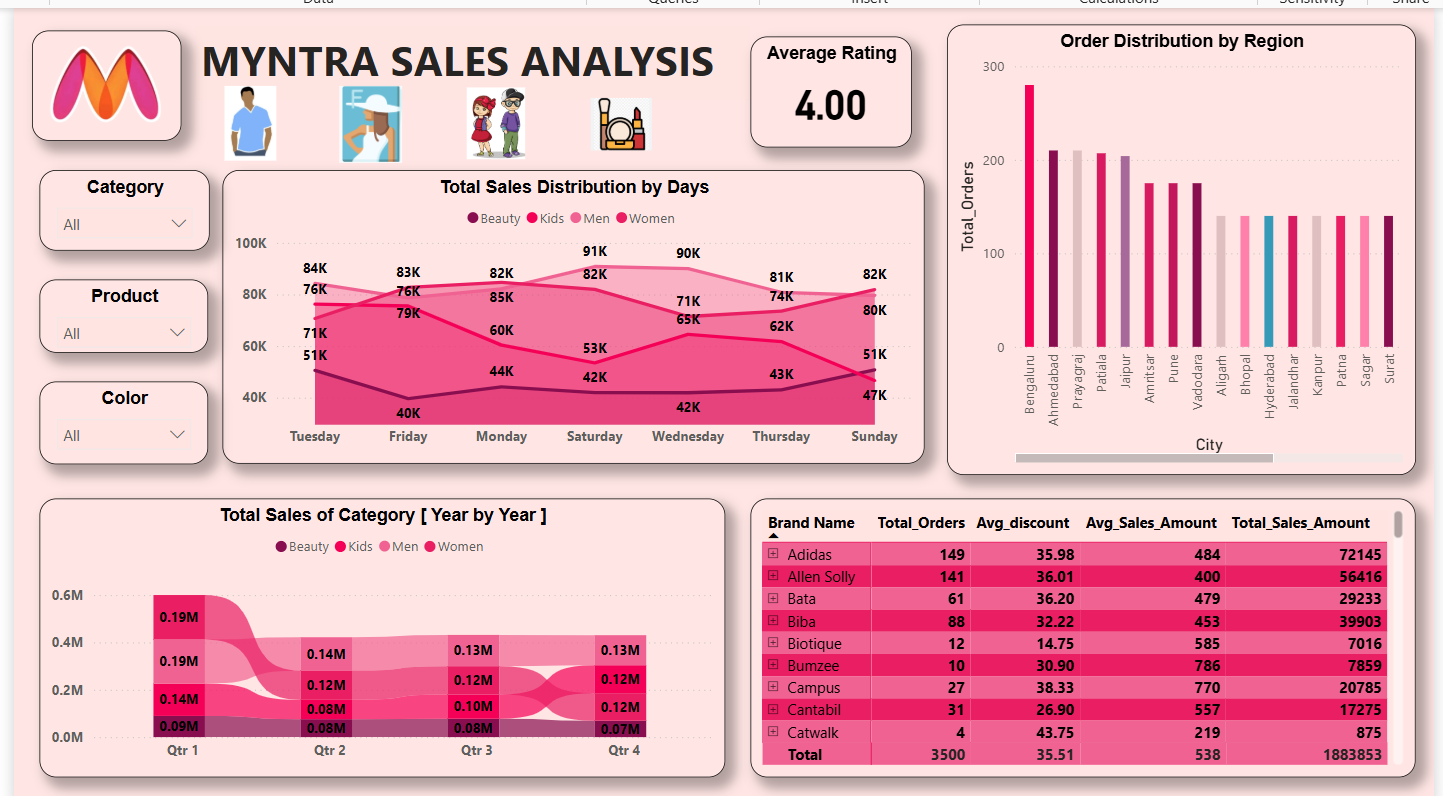

What the dashboard file says about the page in this screenshot:
{"tool":"powerbi","page":{"name":"Key Metrics","canvas":[1280,720],"ordinal":3},"visuals":[{"type":"areaChart","title":"Total Sales Distribution by Days ","fields":{"Category":["DateTable.Day of Week"],"Y":["'Measures'.Total_Sales_Amount"],"Series":["dim_products.Category"]},"box":[187.8,145.4,632.9,265],"z":0},{"type":"ribbonChart","title":"Total Sales of Category [ Year by Year ]","fields":{"Category":["DateTable.Date.Variation.Date Hierarchy.Year","DateTable.Date.Variation.Date Hierarchy.Quarter","DateTable.Date.Variation.Date Hierarchy.Month","DateTable.Date.Variation.Date Hierarchy.Day"],"Y":["Sum(fact_orders.Sales Amount )"],"Series":["dim_products.Category"]},"box":[22.7,442.1,617.8,251.4],"z":1000},{"type":"pivotTable","fields":{"Rows":["dim_products.Brand Name","dim_products.Product Name"],"Values":["'Measures'.Total_Orders","'Measures'.Avg_discount","'Measures'.Avg_Sales_Amount","'Measures'.Total_Sales_Amount"]},"box":[663.2,442.1,599.6,251.4],"z":2000},{"type":"ribbonChart","title":"Order Distribution by Region","fields":{"Category":["dim_customers.City"],"Series":["dim_customers.State"],"Y":["'Measures'.Total_Orders"]},"box":[840.4,15.1,422.5,405.8],"z":3000},{"type":"textbox","box":[163.5,15.9,500,66.7],"z":4000},{"type":"image","box":[174.6,65.5,77.9,77.9],"z":5000},{"type":"image","box":[277,64.7,88,79.4],"z":6000},{"type":"image","box":[389.5,66.9,89.5,75],"z":7000},{"type":"image","box":[503.5,75.6,86.6,57.7],"z":8000},{"type":"image","box":[16,19.6,135,99.4],"z":9000},{"type":"slicer","title":"Category","fields":{"Values":["dim_products.Category"]},"box":[23.3,146,153.4,72.4],"z":10000},{"type":"slicer","title":"Product","fields":{"Values":["dim_products.Product Name"]},"box":[23.3,244.2,152.1,66.3],"z":11000},{"type":"slicer","title":"Color","fields":{"Values":["dim_products.Color"]},"box":[23.3,336.2,152.1,74.8],"z":12000},{"type":"card","title":"Average Rating","fields":{"Values":["'Measures'.Avg_rating"]},"box":[663.2,25.7,145.4,99.9],"z":13000}]}

Visuals, with their boxes on the page's 1280x720 design canvas (x1, y1, x2, y2). These are canvas units, not pixel positions in the 1443x796 screenshot, which may show the page scaled, cropped or inside an application window:
"Total Sales Distribution by Days " areaChart: box=[188, 145, 821, 410]
"Total Sales of Category [ Year by Year ]" ribbonChart: box=[23, 442, 640, 694]
pivotTable - dim_products.Brand Name x dim_products.Product Name: box=[663, 442, 1263, 694]
"Order Distribution by Region" ribbonChart: box=[840, 15, 1263, 421]
textbox: box=[164, 16, 664, 83]
image: box=[175, 66, 252, 143]
image: box=[277, 65, 365, 144]
image: box=[390, 67, 479, 142]
image: box=[504, 76, 590, 133]
image: box=[16, 20, 151, 119]
"Category" slicer: box=[23, 146, 177, 218]
"Product" slicer: box=[23, 244, 175, 310]
"Color" slicer: box=[23, 336, 175, 411]
"Average Rating" card: box=[663, 26, 809, 126]
